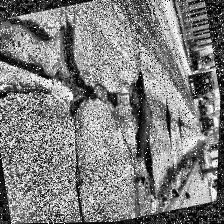pothole: (0, 3, 108, 132), (120, 70, 170, 196), (160, 100, 178, 142), (106, 88, 122, 110)
